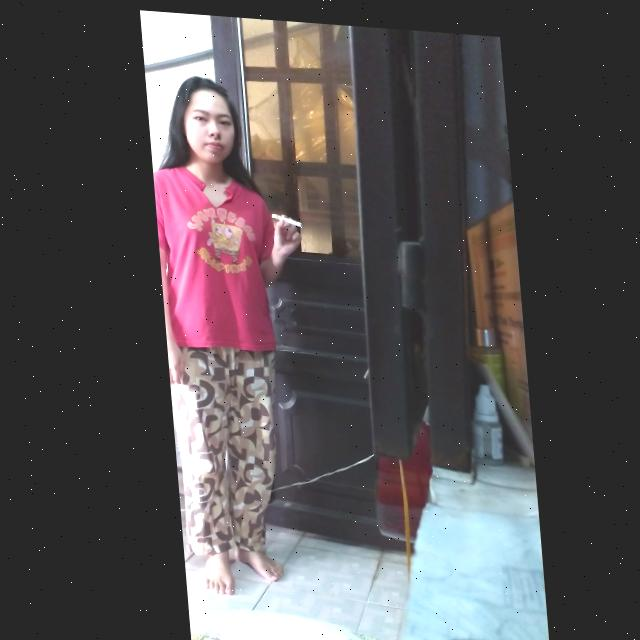cigarette: (268, 210, 299, 224)
